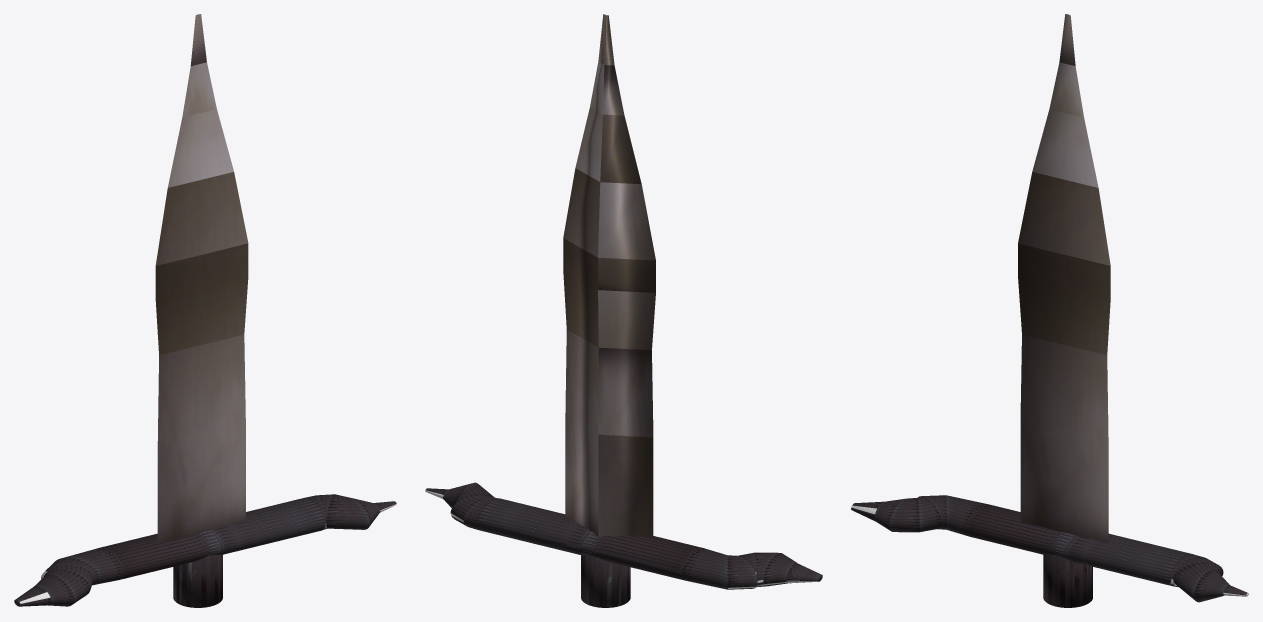
Rendered from SwordStage3B.fbx.
The picture shows the model from 3 angles, left to right: view 1: azimuth 30°, elevation 25°; view 2: azimuth 150°, elevation 25°; view 3: azimuth 330°, elevation 25°; orthographic projection.
Visible parts, largest first — view 1: Cylinder, Cylinder_001, Cylinder_002; view 2: Cylinder, Cylinder_001, Cylinder_002; view 3: Cylinder, Cylinder_001, Cylinder_002.
Part boxes in pixels (<box>): Cylinder: <box>155,14,248,542</box>; Cylinder_001: <box>14,494,396,606</box>; Cylinder_002: <box>173,554,222,607</box>; Cylinder: <box>563,14,655,537</box>; Cylinder_001: <box>425,482,822,589</box>; Cylinder_002: <box>581,555,630,607</box>; Cylinder: <box>1018,14,1110,542</box>; Cylinder_001: <box>851,495,1248,602</box>; Cylinder_002: <box>1043,554,1092,607</box>.
Bounding box in the file's own units: 15.2 × 21.91 × 2.79.
